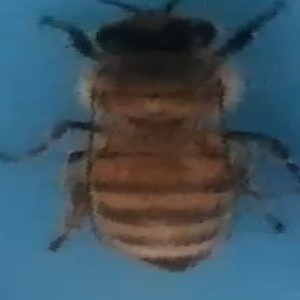bee: (37, 4, 297, 276)
